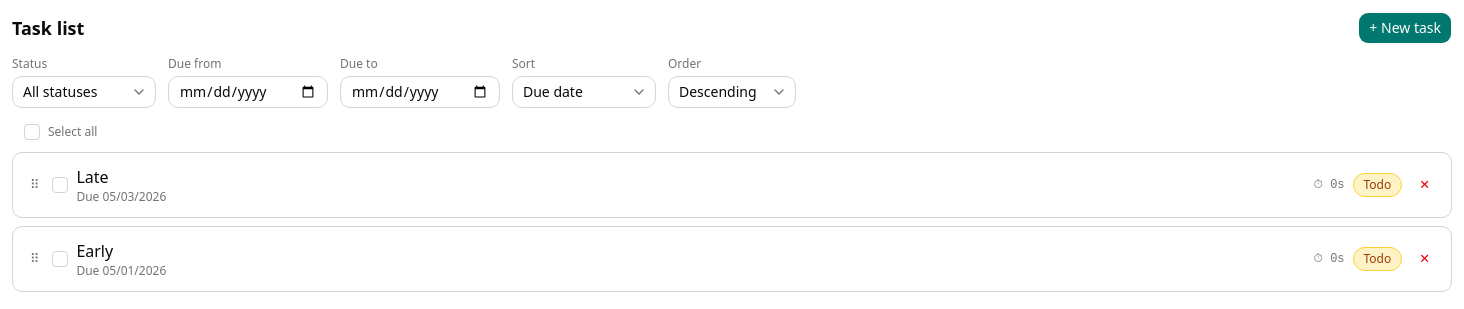
Test: ProjectTaskList › clears the due date filter when Clear filter is clicked
This screenshot has width=1464, height=309.
Step 1. Type "2026-02-01" into the date field labelled "Due from" → (248, 92), box [168,76,328,108]
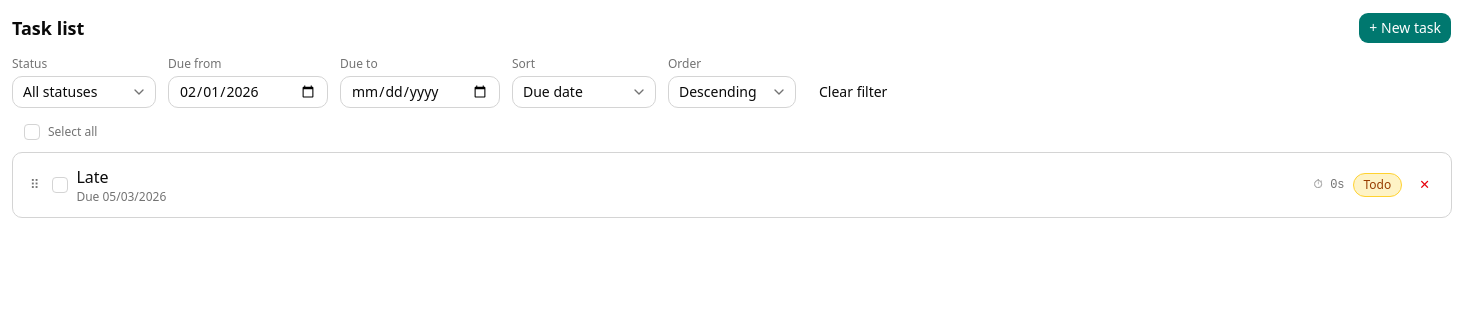
Check: the text "Early" is gone
Step 2. Click the button "Clear filter" → (853, 92), box [808,76,898,108]
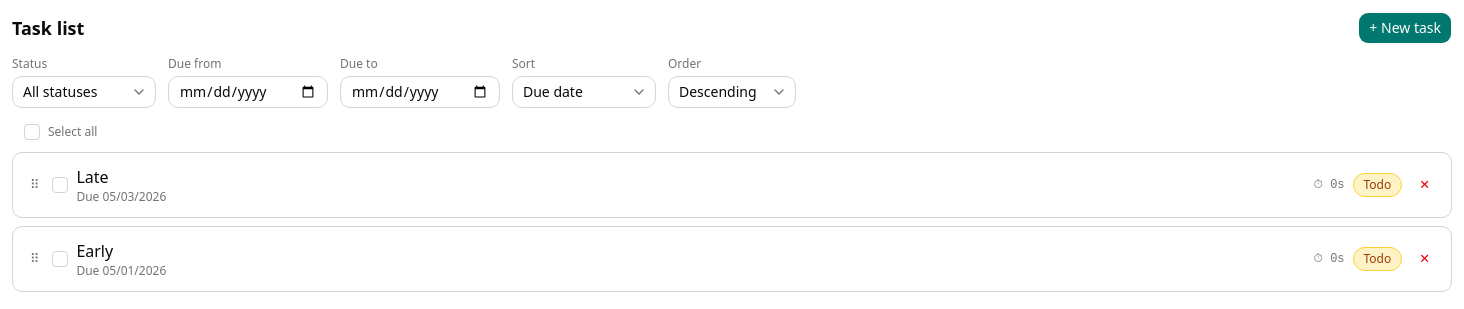
Check: the text "Late" is shown, box [76,166,109,188]
Check: the text "Early" is shown, box [76,240,113,262]
